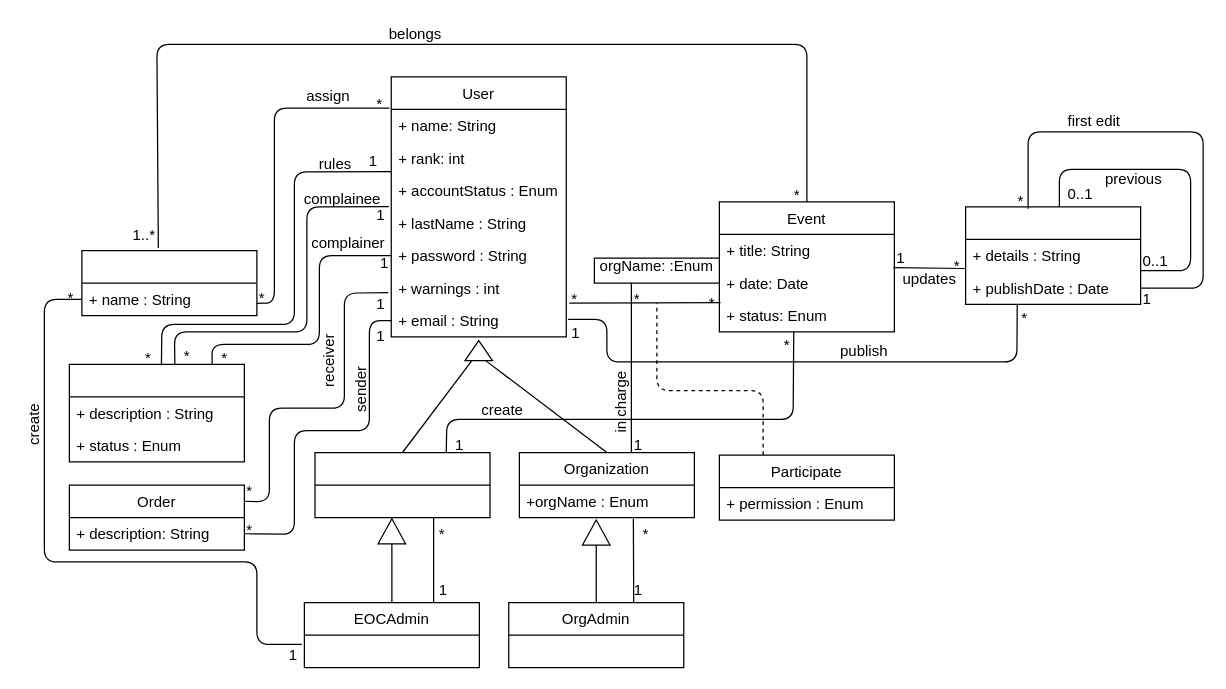
Image size: 1226x689. Some labels were removed from this diagram. Each missing label, with the box of its shape:
Category: (81, 249, 257, 316)
Complaint: (68, 363, 244, 462)
EOC: (314, 451, 490, 518)
Update: (964, 206, 1141, 304)
